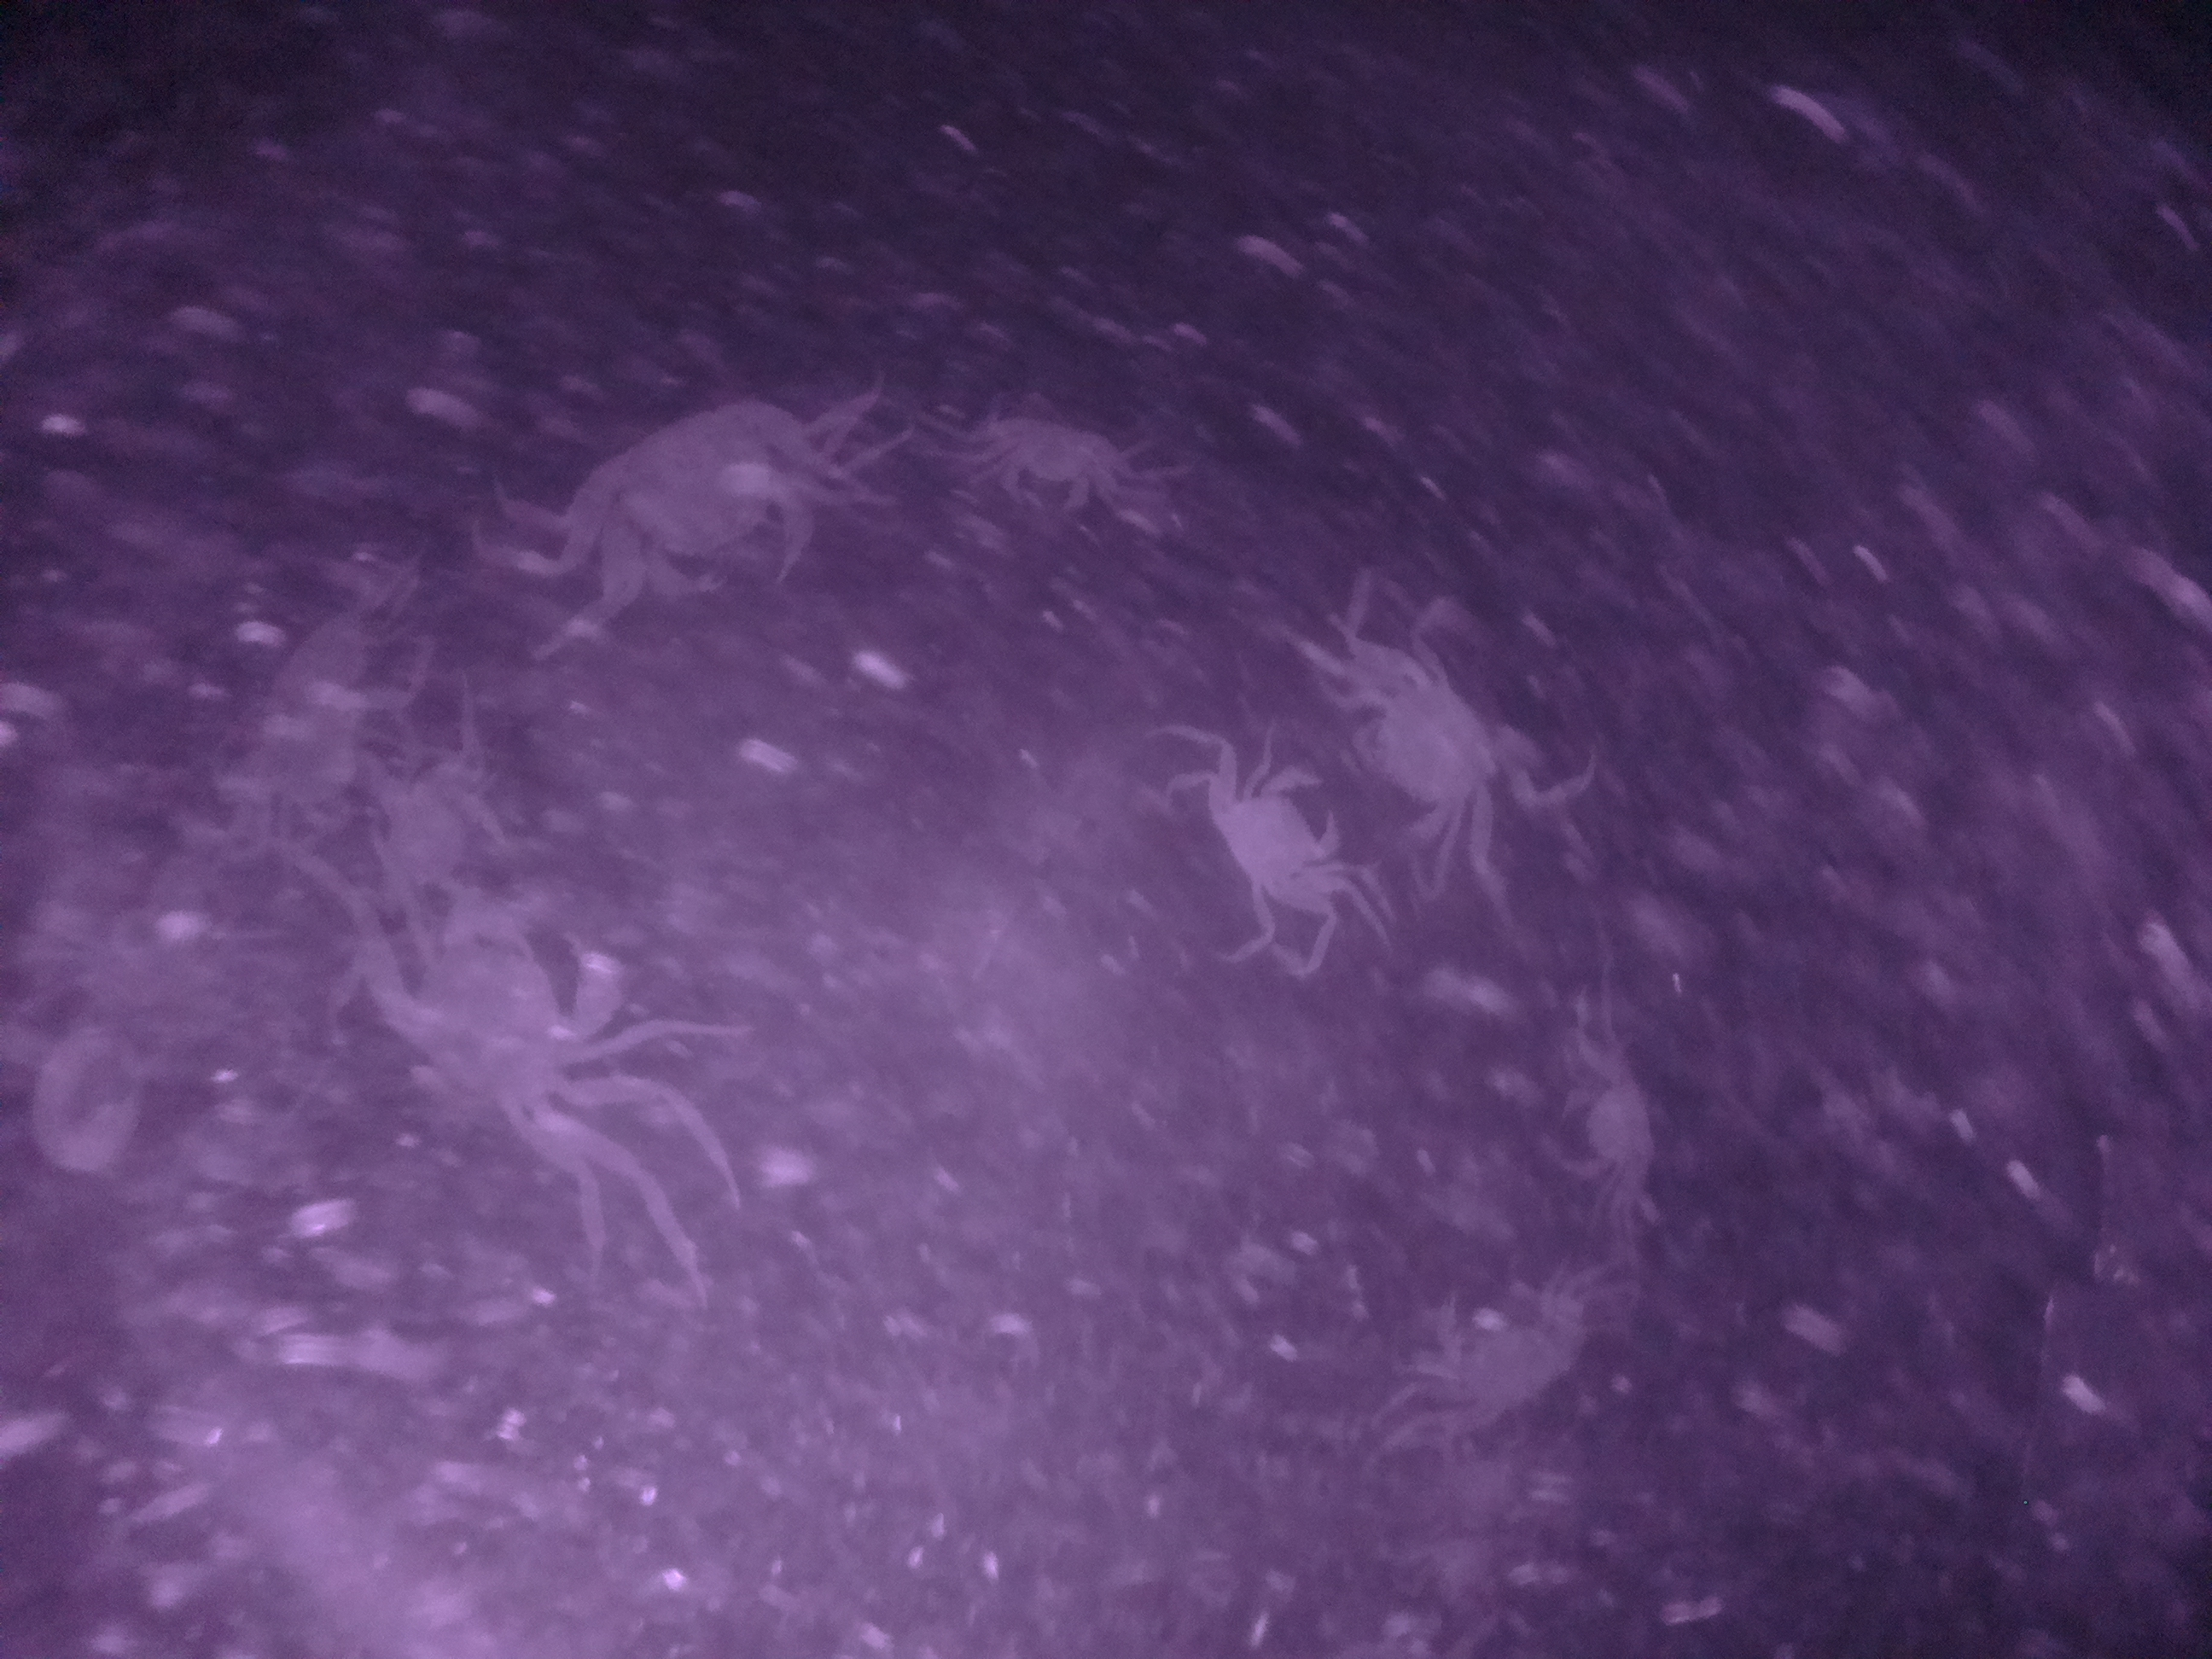Crab: (573, 376, 862, 608), (1324, 645, 1559, 873), (1176, 748, 1360, 906), (975, 404, 1143, 525)
